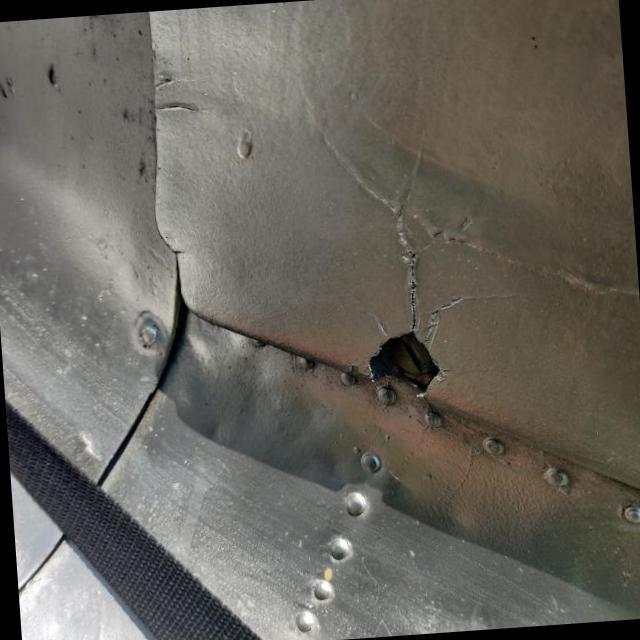Rupture: (312, 192, 489, 432)
